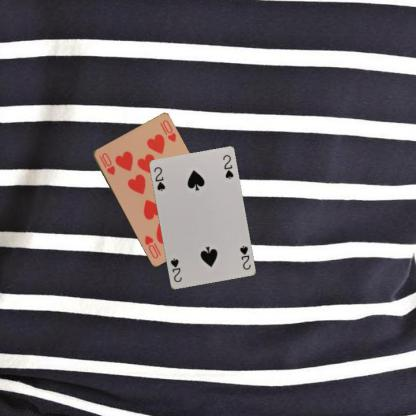10h: (97, 150, 116, 176)
2s: (237, 243, 252, 271), (152, 164, 166, 192)
